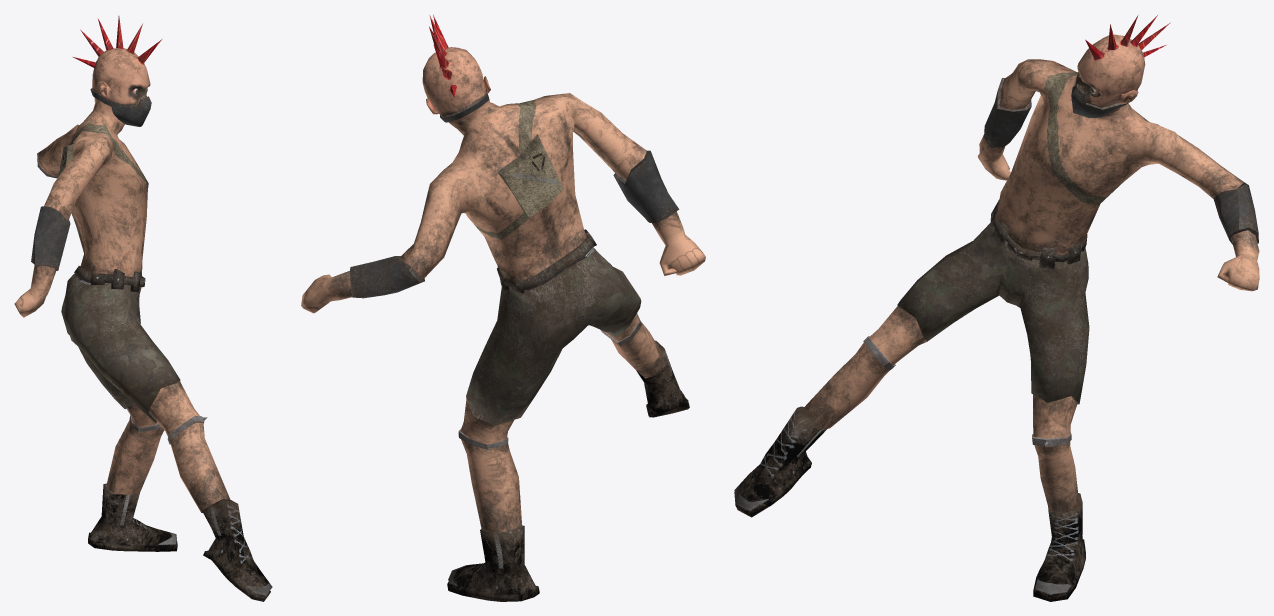
Rendered from Anim_ataque_f2_npc2.0022.obj.
3 renders of one model, left to right at view 1: azimuth 30°, elevation 25°; view 2: azimuth 150°, elevation 25°; view 3: azimuth 270°, elevation 25°, orthographic. The views are drawn at different scales.
Visible parts, largest first — view 1: polySurface1; view 2: polySurface1; view 3: polySurface1.
Part boxes in pixels (x1,y1,x2,y2): polySurface1: (14,16,272,601); polySurface1: (301,15,705,601); polySurface1: (734,15,1259,601).
Size of the model in its own units: 4.56 by 9.63 by 7.93.
Materials: 2 (2 with a texture image).
